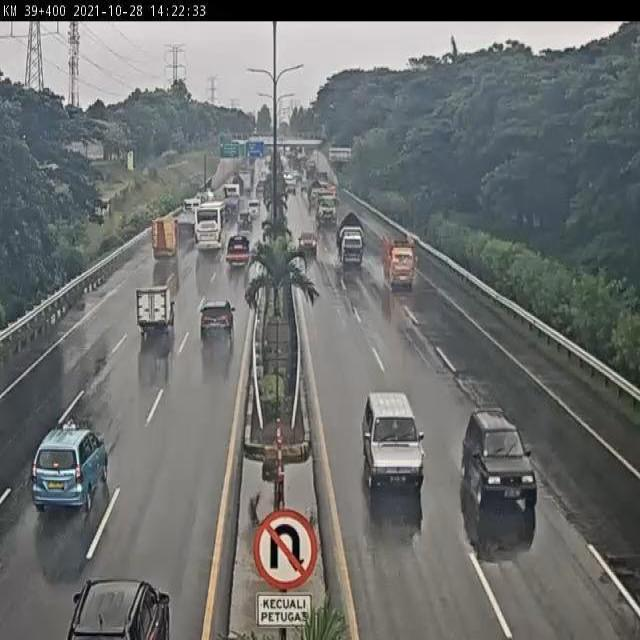ARABA: (460, 406, 540, 514), (33, 419, 111, 512), (361, 387, 426, 496), (134, 283, 176, 336), (198, 294, 235, 342), (298, 227, 319, 256), (233, 208, 255, 233)
KAMYONET: (382, 232, 416, 292), (336, 208, 366, 269), (146, 214, 180, 262), (225, 232, 251, 267)
OTOBUS: (192, 203, 230, 253)
TIR: (312, 185, 339, 227)
